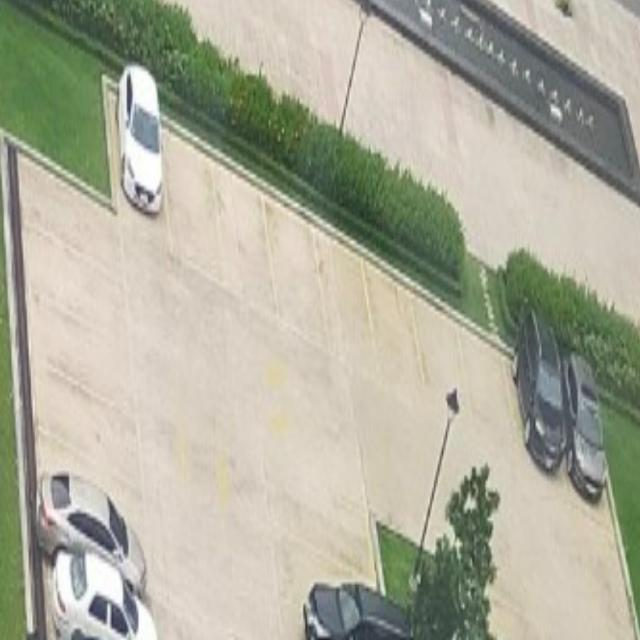car: (38, 474, 146, 596), (51, 552, 156, 639), (512, 309, 565, 471), (119, 65, 164, 213), (304, 584, 410, 640), (564, 353, 605, 497)
freeslot: (19, 209, 144, 363), (29, 350, 149, 505), (24, 278, 145, 428), (258, 444, 378, 592), (16, 149, 131, 295), (451, 319, 533, 498), (357, 251, 434, 432), (308, 220, 387, 394), (257, 185, 335, 359), (406, 288, 482, 465), (208, 152, 283, 328), (158, 121, 233, 296)
